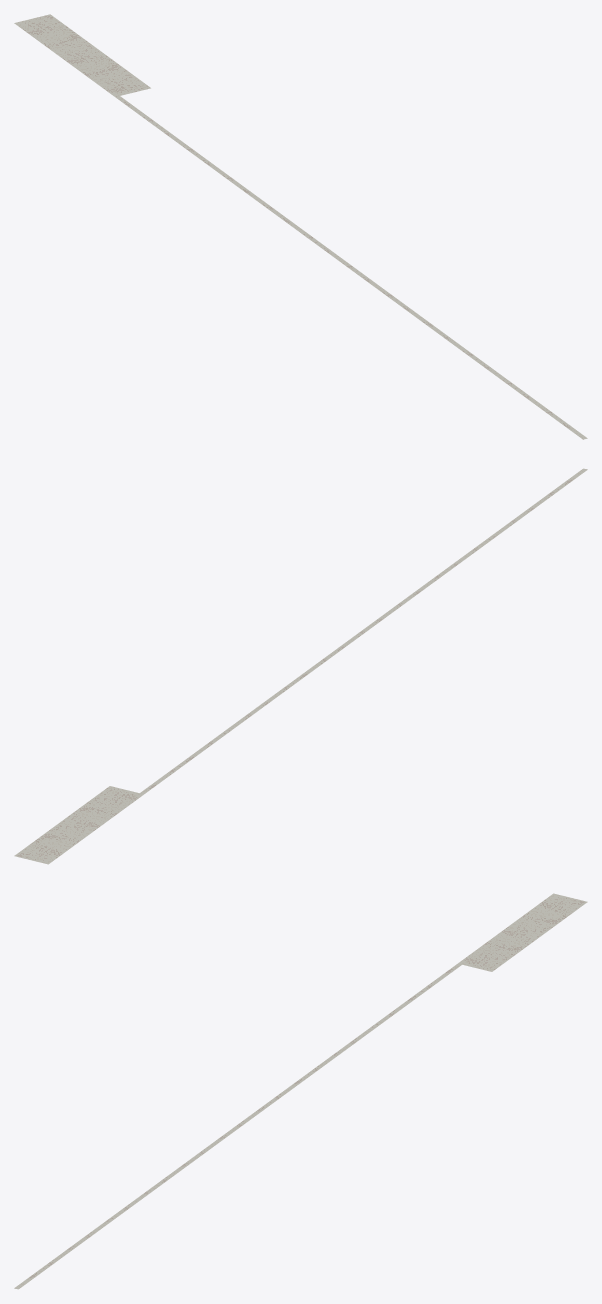
Rendered from kd_stage_135b75_4_30_bounded_piece_11.glb.
The picture shows the model from 3 angles, top to bottom: view 1: azimuth 30°, elevation 25°; view 2: azimuth 150°, elevation 25°; view 3: azimuth 330°, elevation 25°; orthographic projection. The views are drawn at different scales.
Visible parts, largest first — view 1: kd_stage_135b75_4_30_bounded_piece_11; view 2: kd_stage_135b75_4_30_bounded_piece_11; view 3: kd_stage_135b75_4_30_bounded_piece_11.
Part boxes in pixels (bbox=[...]): kd_stage_135b75_4_30_bounded_piece_11: bbox=[14, 14, 587, 439]; kd_stage_135b75_4_30_bounded_piece_11: bbox=[14, 468, 587, 864]; kd_stage_135b75_4_30_bounded_piece_11: bbox=[14, 893, 587, 1289].
Bounding box in the file's own units: 0.1726 × 2.38e-07 × 4.68.
1 material, 1 textured.
